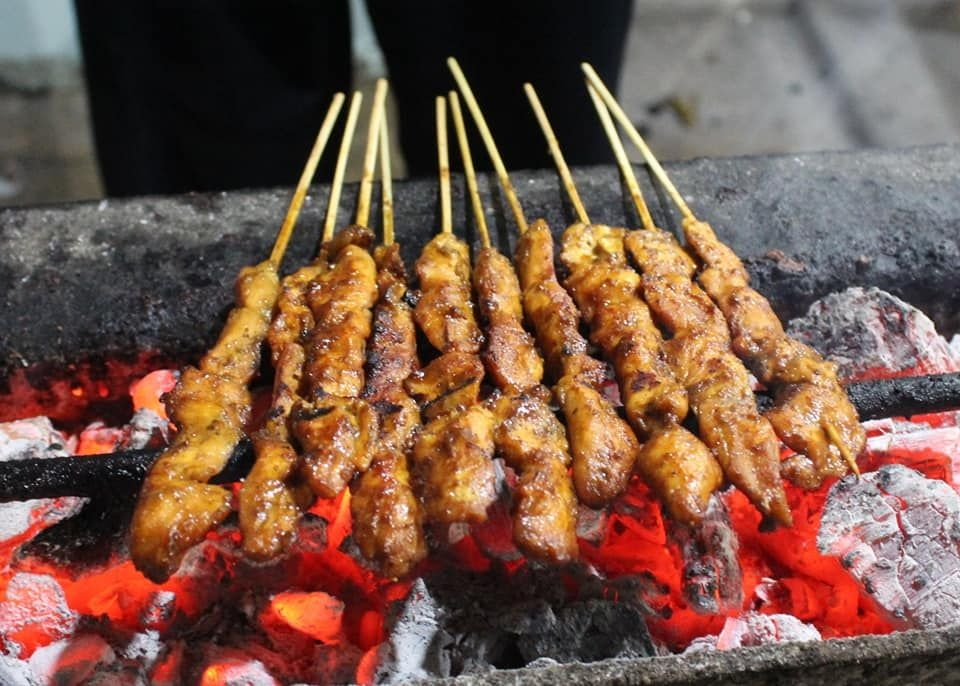sate: (520, 63, 894, 528), (99, 89, 416, 558), (401, 55, 659, 576)
